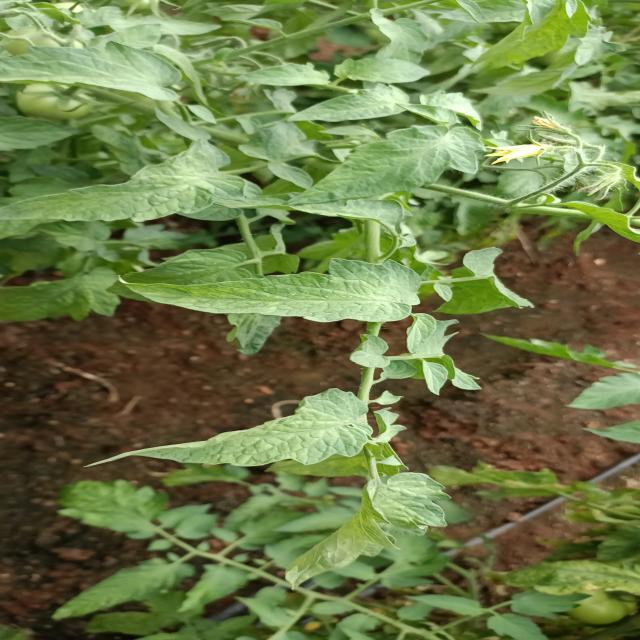Healthy Leaf: (92, 241, 403, 335), (89, 384, 371, 479), (296, 111, 499, 226)
